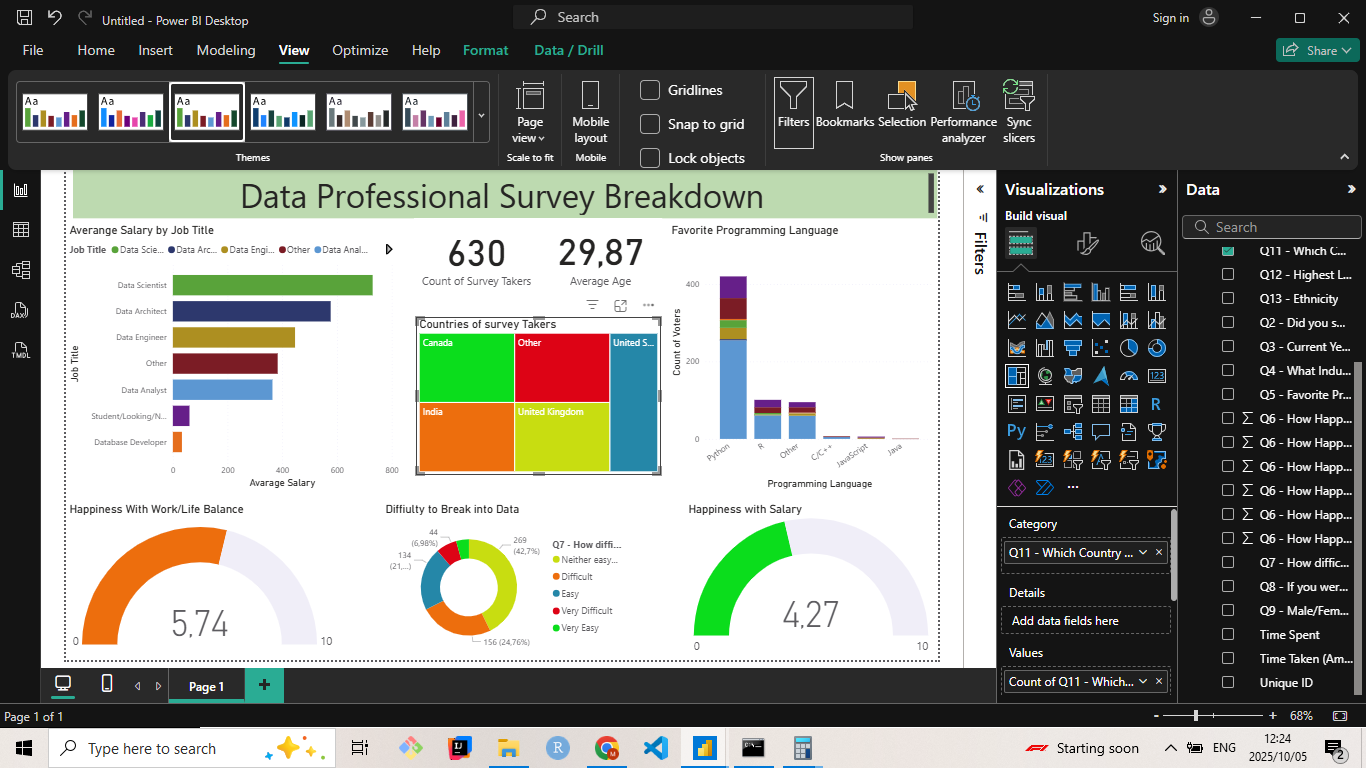

The dashboard page shown, as its layout file describes it:
{"tool":"powerbi","page":{"name":"Page 1","canvas":[1280,720],"ordinal":0},"visuals":[{"type":"textbox","box":[10.1,0,1269.9,70.6],"z":0},{"type":"card","fields":{"Values":["CountNonNull(Data Professional Survey.Unique ID)"]},"box":[511.3,70.5,183.7,108.7],"z":1000},{"type":"card","fields":{"Values":["Avg(Data Professional Survey.Q10 - Current Age)"]},"box":[695,70.5,180.7,107.3],"z":2000},{"type":"barChart","title":"Averange Salary by Job Title","fields":{"Category":["Data Professional Survey.Q1 - Which Title Best Fits your Current Role?.1"],"Y":["Avg(Data Professional Survey.Avarage Salary)"],"Series":["Data Professional Survey.Q1 - Which Title Best Fits your Current Role?.1"]},"box":[0,77.9,493.7,395.3],"z":3000},{"type":"columnChart","title":"Favorite Programming Language","fields":{"Category":["Data Professional Survey.Q5 - Favorite Programming Language.1"],"Y":["CountNonNull(Data Professional Survey.Unique ID)"],"Series":["Data Professional Survey.Q1 - Which Title Best Fits your Current Role?.1"]},"box":[884.6,77.9,395.3,395.3],"z":4000},{"type":"treemap","title":"Countries of survey Takers","fields":{"Values":["Count(Data Professional Survey.Q11 - Which Country do you live in?.1)"],"Group":["Data Professional Survey.Q11 - Which Country do you live in?.1"]},"box":[514.3,216,360,232.2],"z":5000},{"type":"gauge","title":"Happiness With Work/Life Balance","fields":{"Y":["Avg(Data Professional Survey.Q6 - How Happy are you in your Current Position with the following? (Work/Life Balance))"],"MinValue":["Min(Data Professional Survey.Q6 - How Happy are you in your Current Position with the following? (Work/Life Balance))"],"MaxValue":["Max(Data Professional Survey.Q6 - How Happy are you in your Current Position with the following? (Work/Life Balance))1"]},"box":[0,487.8,401.1,232.2],"z":6000},{"type":"gauge","title":"Happiness with Salary","fields":{"Y":["Avg(Data Professional Survey.Q6 - How Happy are you in your Current Position with the following? (Salary))"],"MinValue":["Min(Data Professional Survey.Q6 - How Happy are you in your Current Position with the following? (Salary))"],"MaxValue":["Max(Data Professional Survey.Q6 - How Happy are you in your Current Position with the following? (Salary))"]},"box":[909.6,487.8,370.3,232.2],"z":7000},{"type":"donutChart","title":"Diffiulty to Break into Data","fields":{"Category":["Data Professional Survey.Q7 - How difficult was it for you to break into Data?"],"Y":["CountNonNull(Data Professional Survey.Q7 - How difficult was it for you to break into Data?)"]},"box":[464.3,487.8,361.5,232.2],"z":8000}]}

Visuals, with their boxes on the page's 1280x720 design canvas (x1, y1, x2, y2). These are canvas units, not pixel positions in the 1366x768 screenshot, which may show the page scaled, cropped or inside an application window:
textbox: select_region(10, 0, 1280, 71)
card - CountNonNull(Data Professional Survey.Unique ID): select_region(511, 70, 695, 179)
card - Avg(Data Professional Survey.Q10 - Current Age): select_region(695, 70, 876, 178)
"Averange Salary by Job Title" barChart: select_region(0, 78, 494, 473)
"Favorite Programming Language" columnChart: select_region(885, 78, 1280, 473)
"Countries of survey Takers" treemap: select_region(514, 216, 874, 448)
"Happiness With Work/Life Balance" gauge: select_region(0, 488, 401, 720)
"Happiness with Salary" gauge: select_region(910, 488, 1280, 720)
"Diffiulty to Break into Data" donutChart: select_region(464, 488, 826, 720)
